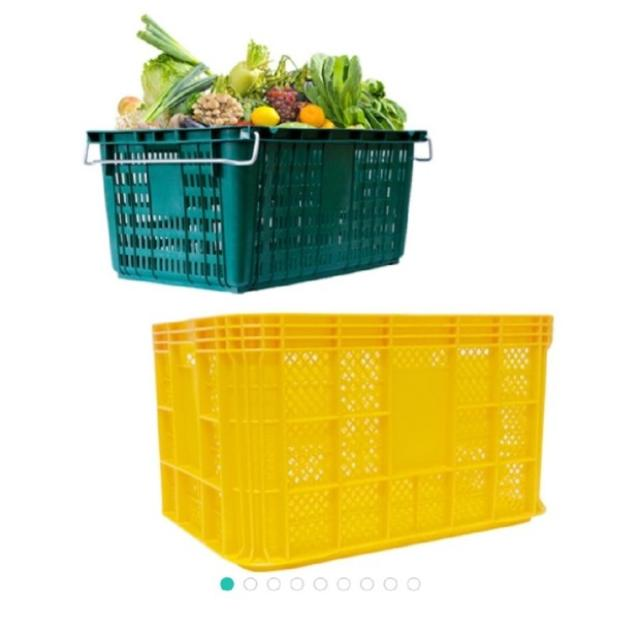basket: (154, 306, 561, 574), (81, 120, 428, 299)
